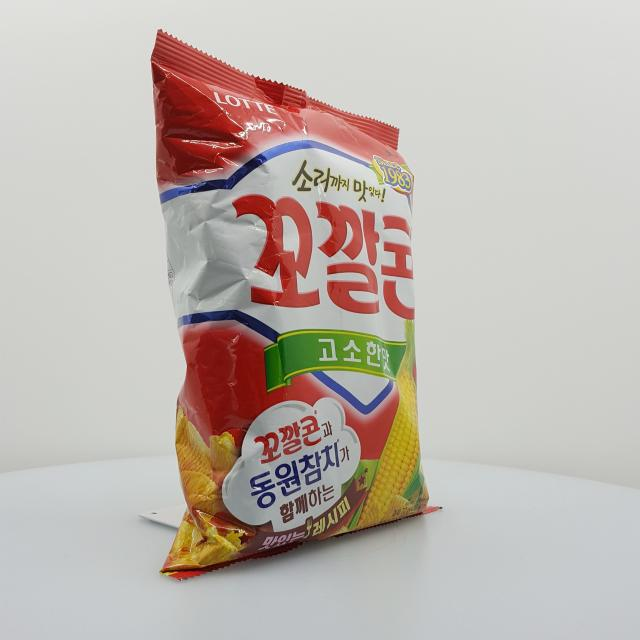-72G: (151, 30, 443, 582)
